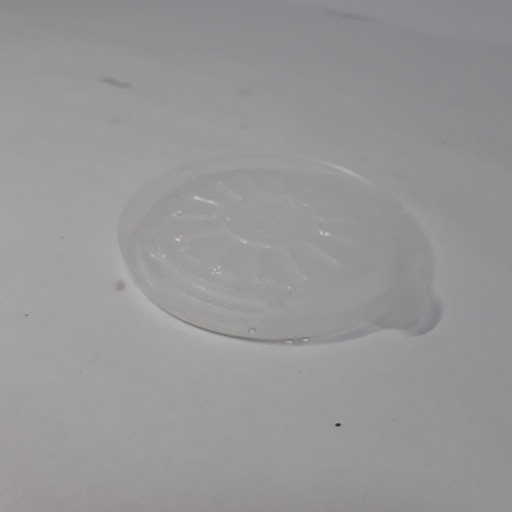Plastic_5: (114, 149, 437, 345)
